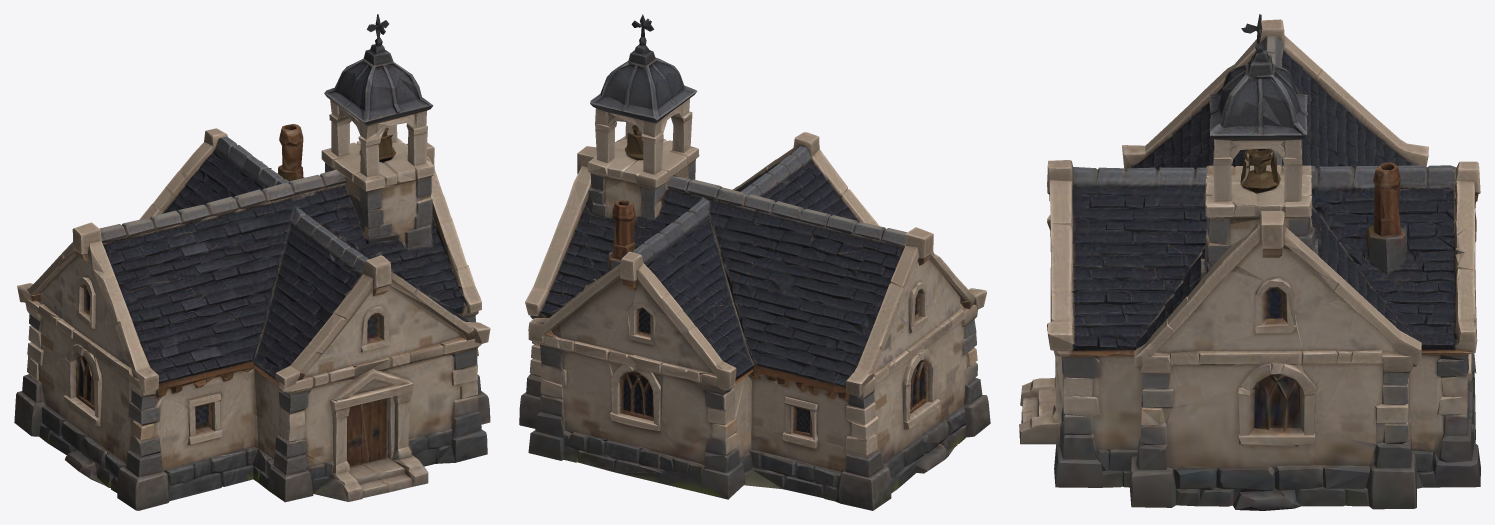
The model's file is university.glb.
3 renders of one model, left to right at view 1: azimuth 30°, elevation 25°; view 2: azimuth 150°, elevation 25°; view 3: azimuth 270°, elevation 25°, orthographic. The views are drawn at different scales.
Size of the model in its own units: 1.9 by 1.89 by 1.72.
Materials: 1 (1 with a texture image).
